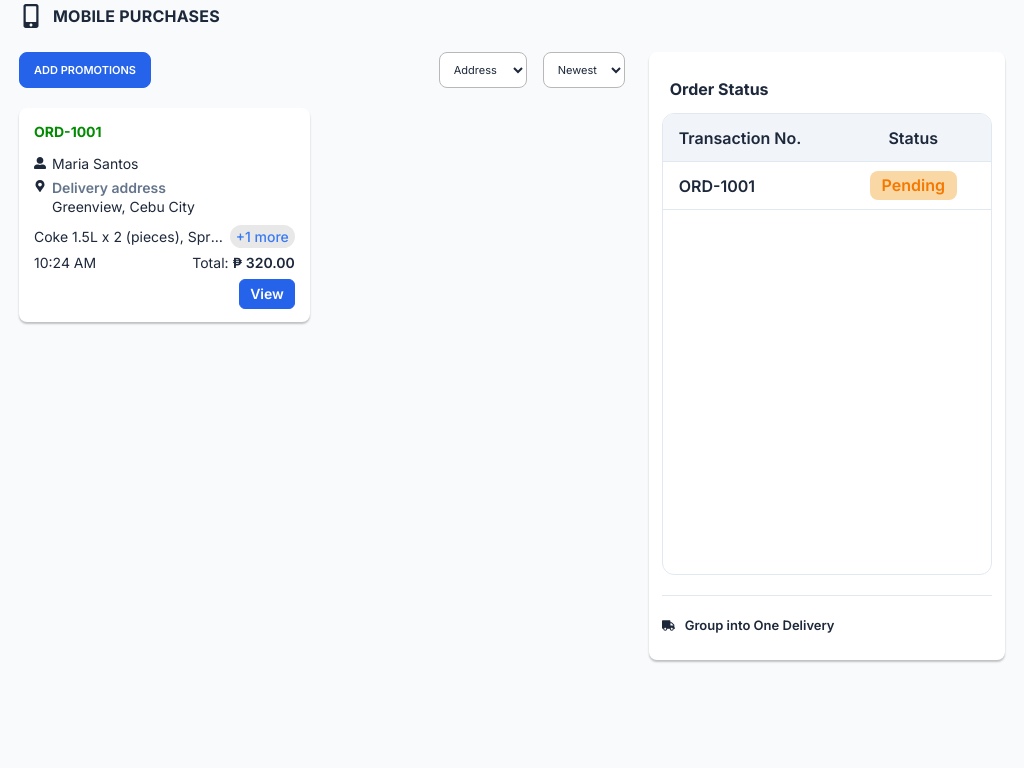
Test case: clicking a card opens fresh details including products hidden from its preview
The width and height of the screenshot is (1024, 768).
Click the button with aria-label "View order details for ORD-1001" at (267, 294), box top-left (239, 279), bottom-right (295, 309)
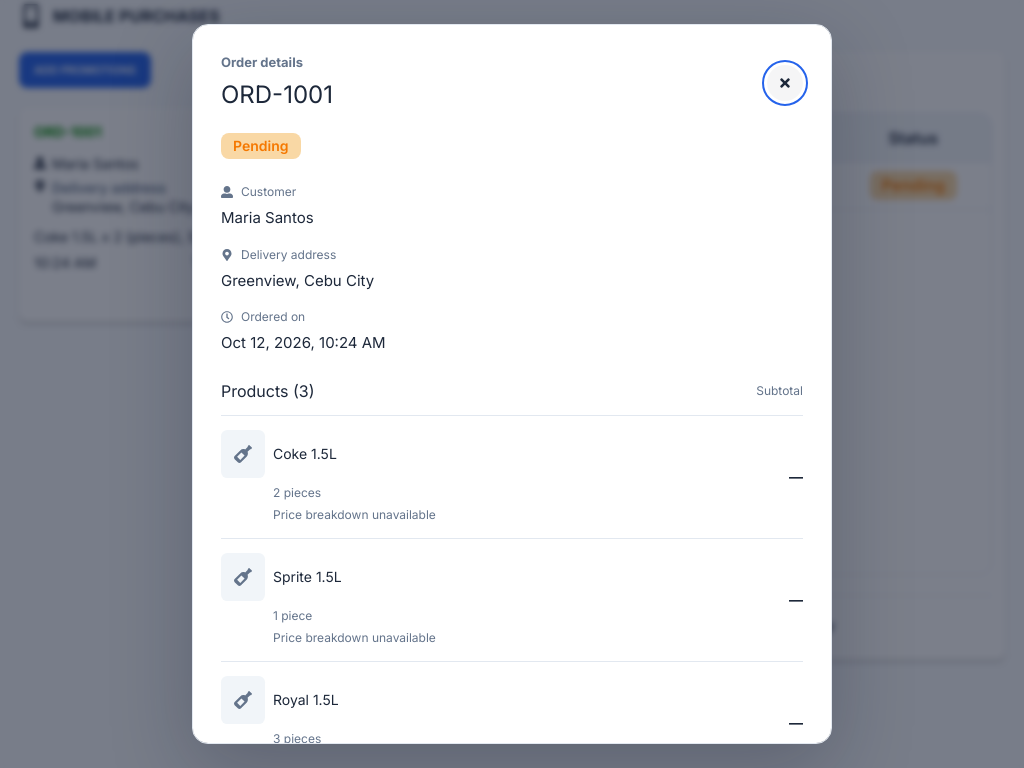
Expected: the text "Royal 1.5L" is shown, top-left (273, 690), bottom-right (339, 710)
Expected: the text "Greenview, Cebu City" is shown, top-left (221, 271), bottom-right (374, 290)
Click the button named "Close order details" at (785, 83), box top-left (767, 65), bottom-right (803, 101)
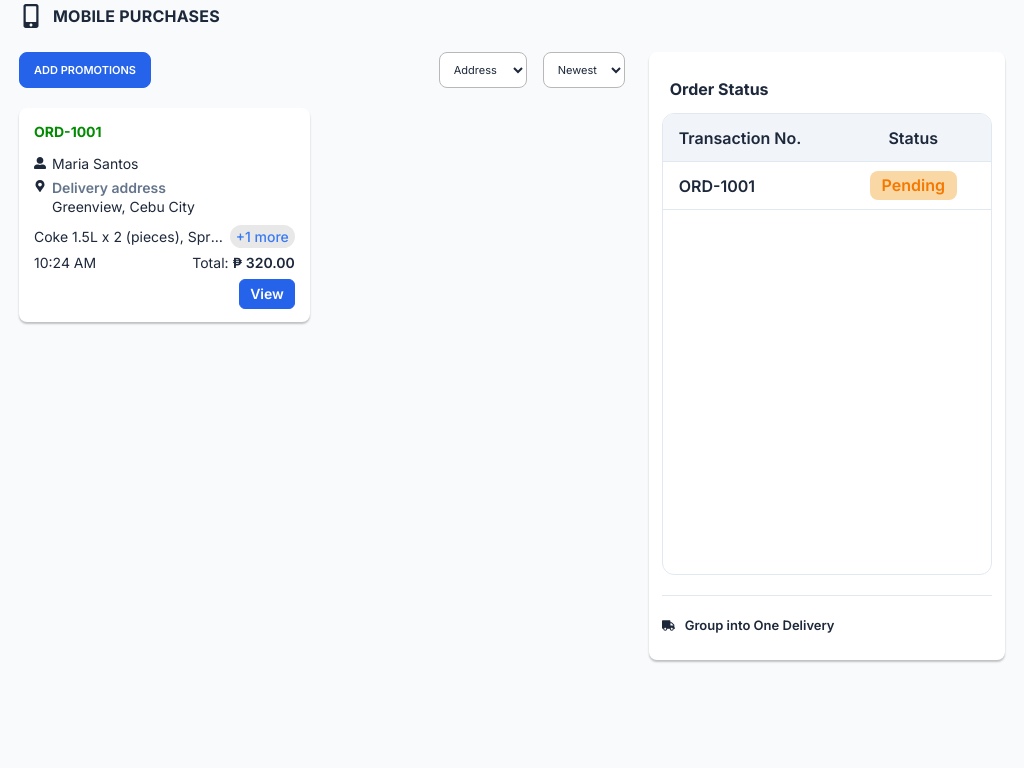
Expected: the dialog is gone
